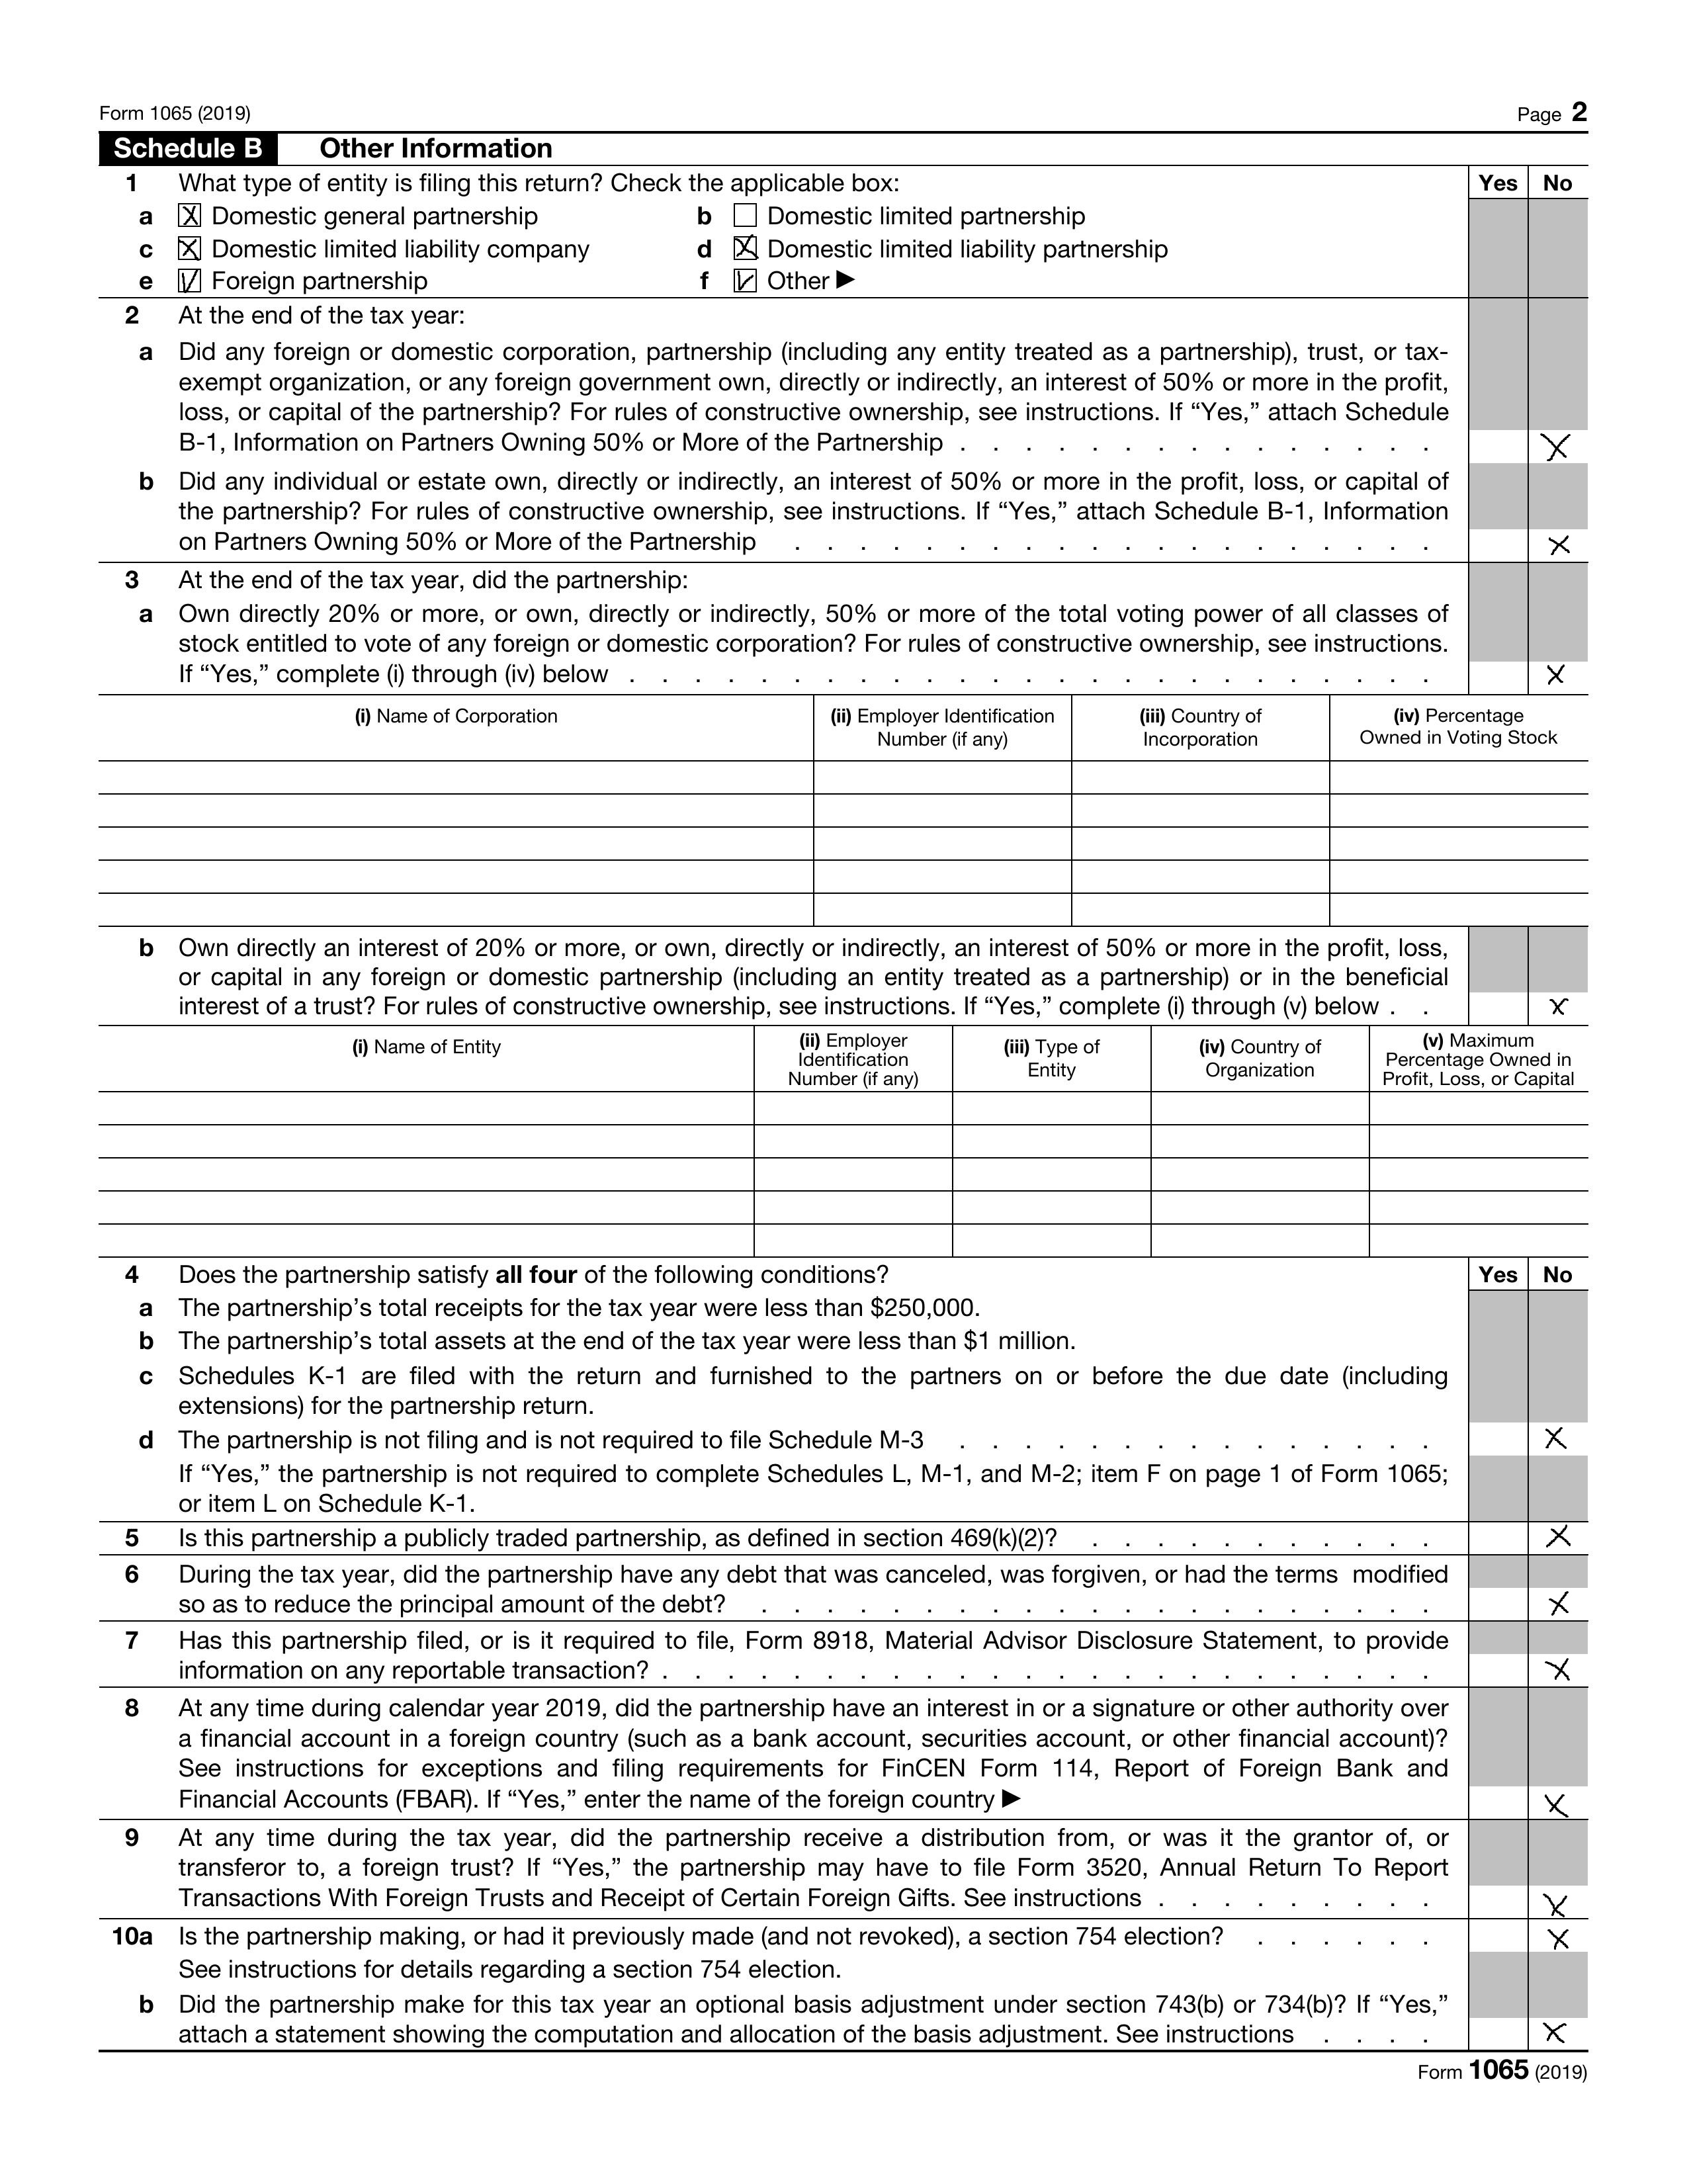checkbox: (732, 267, 762, 296), (175, 204, 204, 232), (732, 202, 760, 230), (177, 237, 204, 266), (732, 237, 760, 264), (177, 269, 204, 296)
checkmark: (1538, 432, 1581, 466), (1543, 1656, 1582, 1688), (1543, 1591, 1579, 1623), (1543, 1527, 1582, 1553), (1538, 1794, 1577, 1821), (1538, 1892, 1577, 1918), (1545, 533, 1579, 563), (1538, 2021, 1575, 2048), (1540, 662, 1572, 691), (1540, 1426, 1572, 1454), (1545, 1925, 1575, 1954), (1545, 997, 1572, 1020)
